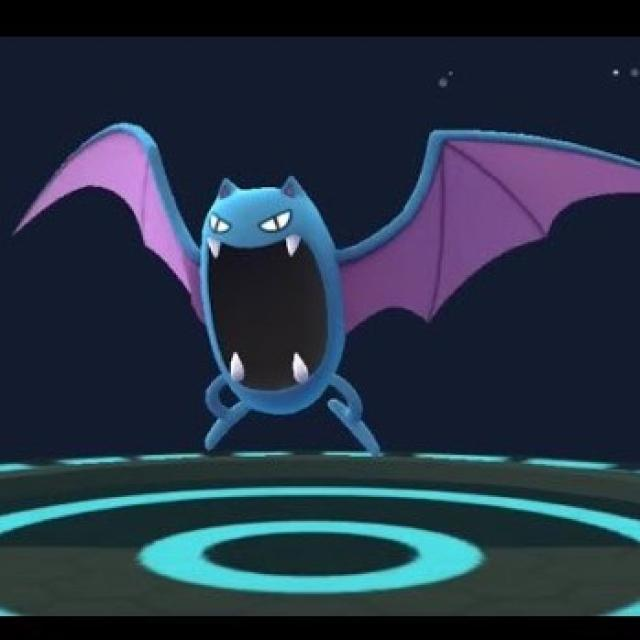Golbat: (103, 126, 479, 463)
